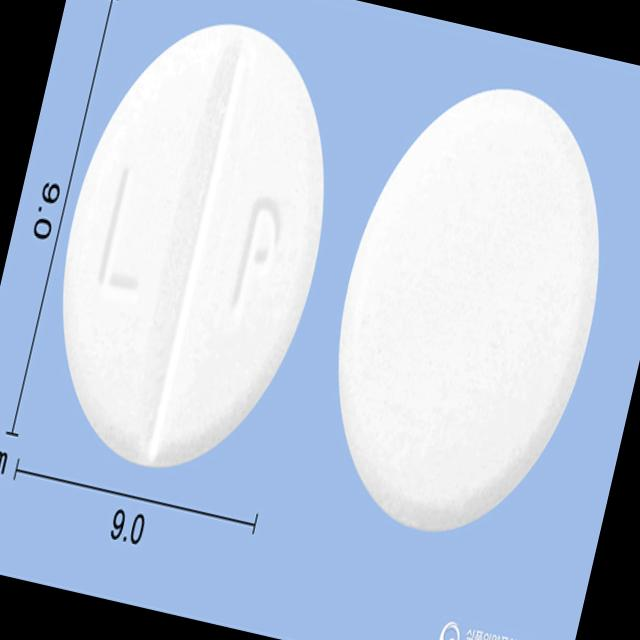Lamisil: (20, 0, 368, 498)
